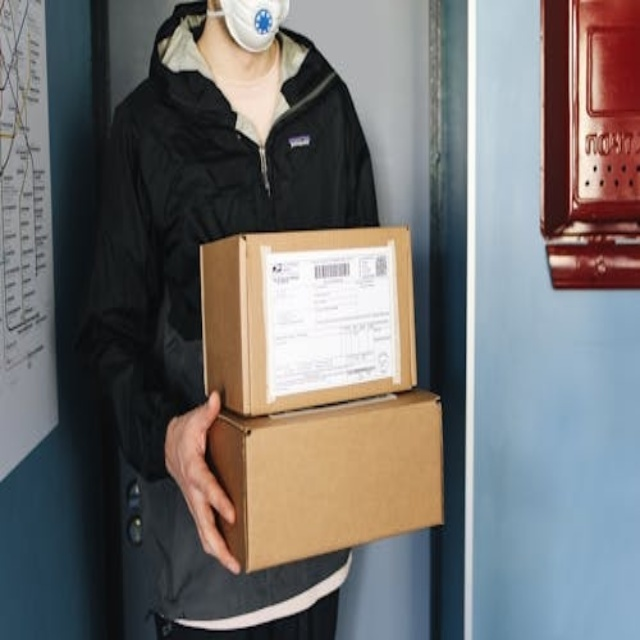Mascara: (213, 0, 288, 52)
Sin_guantes: (164, 386, 242, 576)
